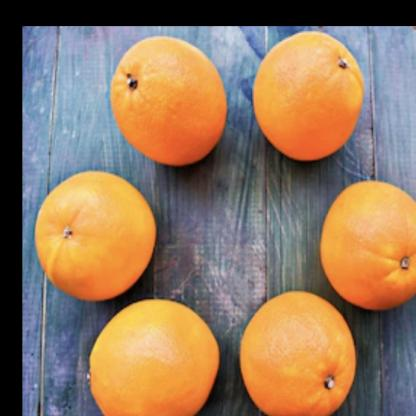fresh: (31, 31, 416, 416)
